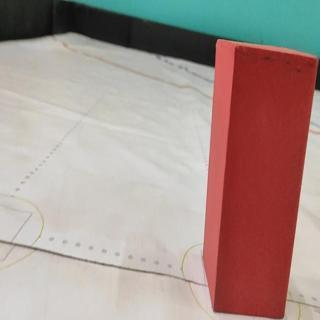redbox: (214, 43, 299, 320)
